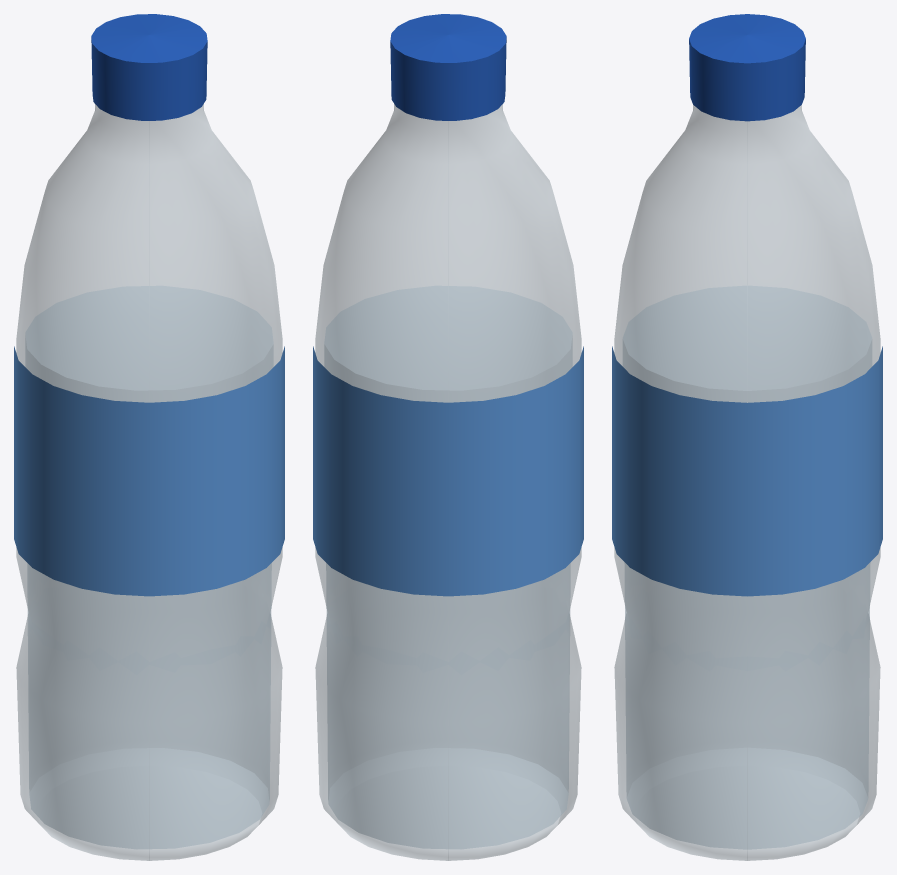
The model's file is chai_nuoc.glb.
3 renders of one model, left to right at view 1: azimuth 30°, elevation 25°; view 2: azimuth 150°, elevation 25°; view 3: azimuth 270°, elevation 25°, orthographic.
Visible parts, largest first — view 1: chai_nuoc; view 2: chai_nuoc; view 3: chai_nuoc.
Part boxes in pixels (x1,y1,x2,y2): chai_nuoc: (14, 14, 284, 860); chai_nuoc: (313, 14, 583, 860); chai_nuoc: (612, 14, 882, 860).
Bounding box in the file's own units: 0.0672 × 0.213 × 0.0672.
